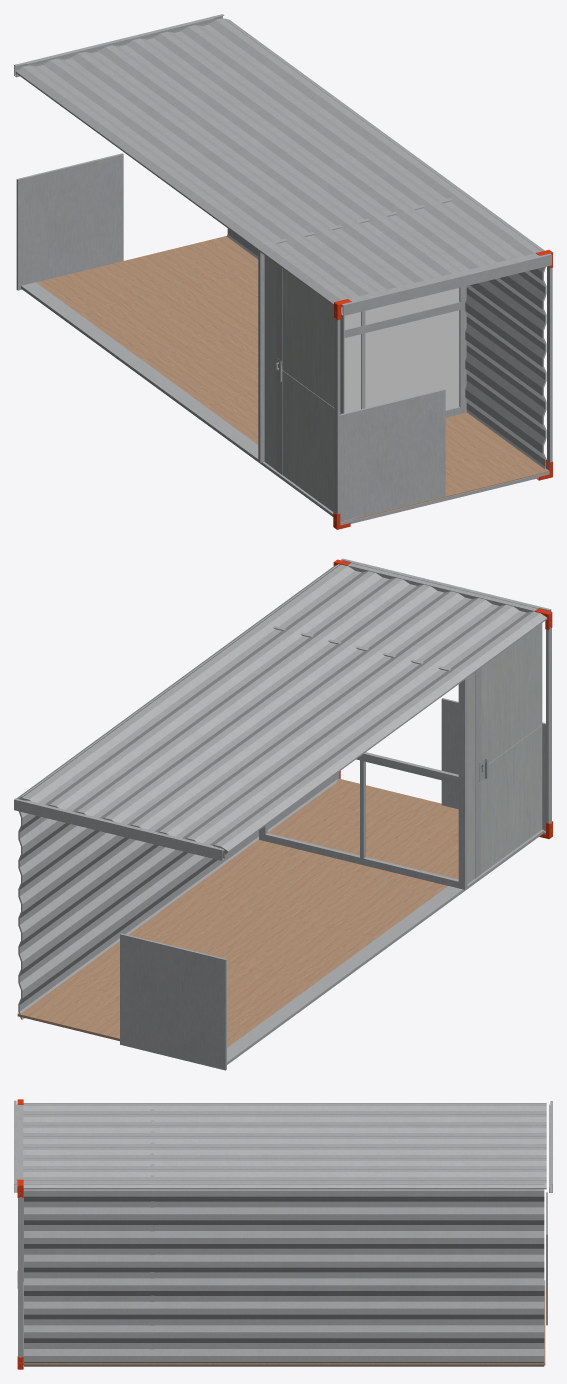
File: 12S4_closed.glb
3 views of the same model, one above another, from view 1: azimuth 30°, elevation 25°; view 2: azimuth 150°, elevation 25°; view 3: azimuth 270°, elevation 25° (orthographic). The views are drawn at different scales.
Parts seen in each view (by area): view 1: celing, floor.002, doors.001, Wall, back, Cube, Cube.001, floor.001, frontRim, gutter, gutter.001; view 2: celing, floor.002, back, doors.001, Cube, Wall, floor.001, gutter.001, frontRim, Cube.001, doors.002, floor (+1 smaller); view 3: back, celing, floor.002, frontRim, Wall, gutter, gutter.001.
Part boxes in pixels (x1,y1,x2,y2): celing: [16, 18, 544, 305]; floor.002: [36, 236, 549, 519]; doors.001: [264, 255, 344, 511]; Wall: [258, 198, 466, 462]; back: [225, 18, 546, 468]; Cube: [16, 153, 123, 290]; Cube.001: [340, 389, 445, 522]; floor.001: [21, 282, 357, 522]; frontRim: [334, 253, 552, 525]; gutter: [341, 253, 551, 315]; gutter.001: [14, 14, 224, 77]; celing: [16, 564, 547, 852]; floor.002: [17, 778, 458, 1047]; back: [18, 564, 339, 1019]; doors.001: [467, 623, 542, 883]; Cube: [120, 933, 226, 1070]; Wall: [259, 626, 467, 889]; floor.001: [227, 829, 543, 1064]; gutter.001: [14, 798, 224, 860]; frontRim: [337, 563, 551, 834]; Cube.001: [441, 698, 545, 831]; doors.002: [467, 672, 475, 883]; floor: [227, 830, 544, 1064]; back: [24, 1183, 544, 1366]; celing: [23, 1103, 546, 1189]; floor.002: [23, 1286, 545, 1365]; frontRim: [18, 1105, 23, 1362]; Wall: [150, 1109, 154, 1349]; gutter: [14, 1100, 17, 1192]; gutter.001: [549, 1101, 552, 1192].
Bounding box in the file's own units: 23.18 × 23.06 × 61.09.
Materials: 7 (6 with a texture image).
